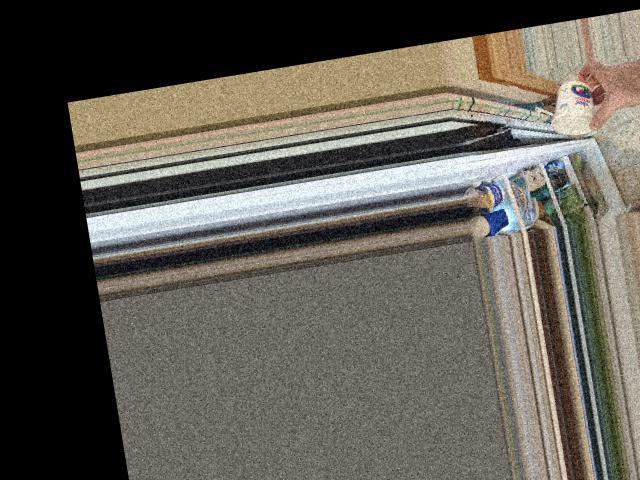cotage: (546, 75, 603, 137)
